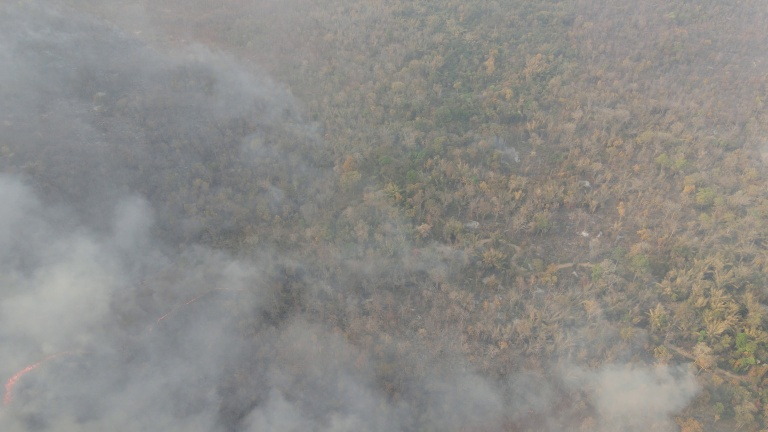fire: (1, 350, 87, 423), (129, 284, 218, 344)
smoke: (4, 245, 298, 432), (193, 56, 310, 136), (569, 363, 693, 421)
